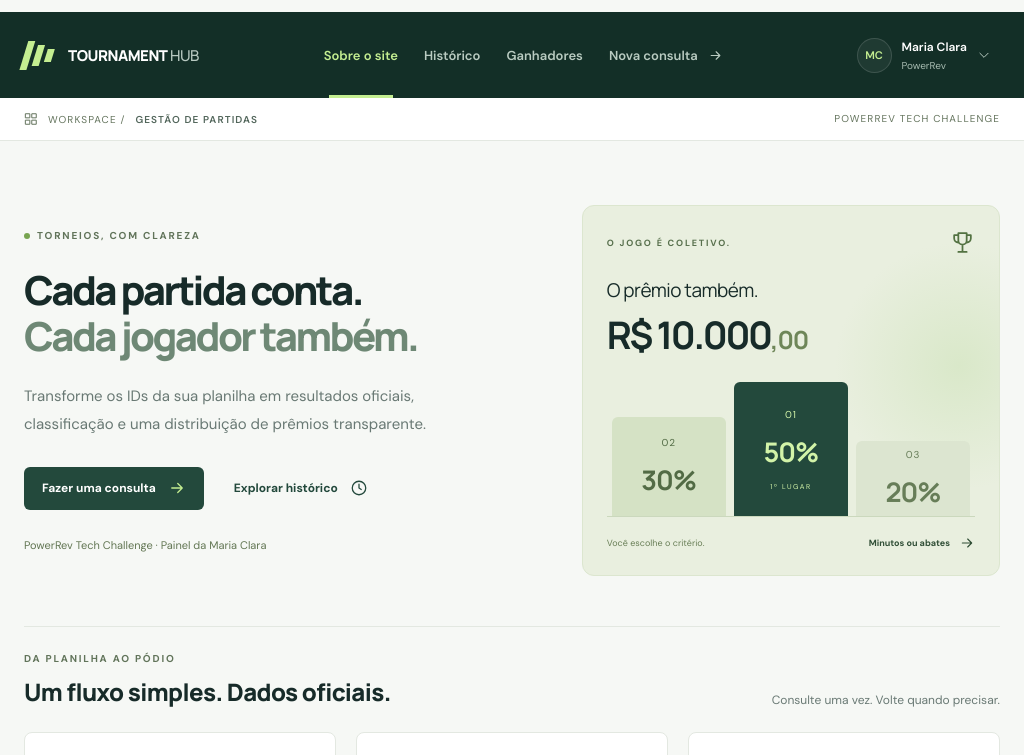
Test: mostra ganhador, classificação e rateio do torneio anual
The image size is (1024, 755).
Click the button "Ganhadores" at point(545, 55), box [494,12,596,98]
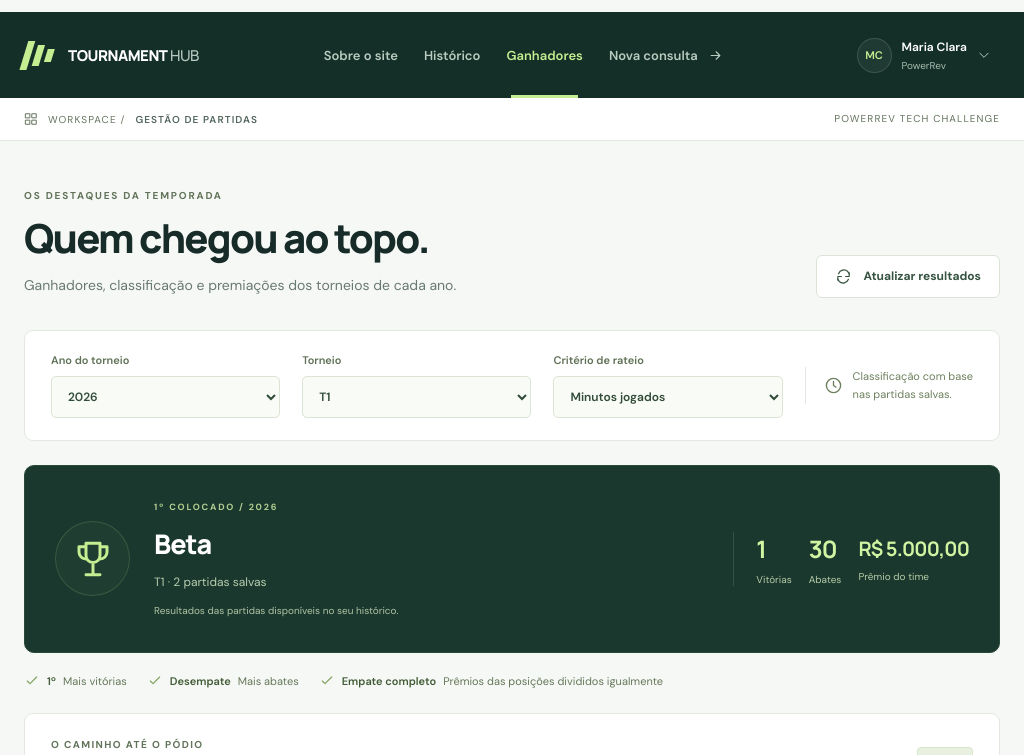
Check: the heading with id "champion-title" reads "Beta", box [154,525,211,562]
Check: the element with class "champion-stats" shows "30", box [809,532,837,565]
Check: the element with class "ranking-rules" shows "Prêmios das posições divididos igualmente", box [443,674,663,688]
